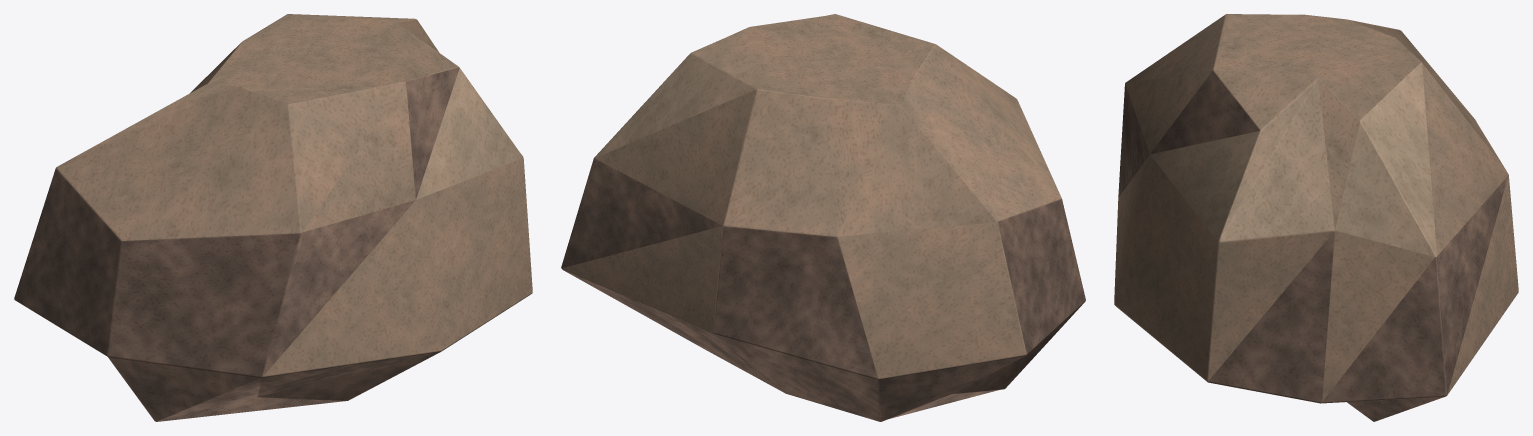
The model's file is PitLipRubble_04.glb.
3 renders of one model, left to right at view 1: azimuth 30°, elevation 25°; view 2: azimuth 150°, elevation 25°; view 3: azimuth 270°, elevation 25°, orthographic. The views are drawn at different scales.
Parts seen in each view (by area): view 1: Fractured_crust_warm_panel.003; view 2: Fractured_crust_warm_panel.003; view 3: Fractured_crust_warm_panel.003.
Part boxes in pixels (bbox=[...]): Fractured_crust_warm_panel.003: bbox=[14, 14, 532, 421]; Fractured_crust_warm_panel.003: bbox=[561, 14, 1085, 421]; Fractured_crust_warm_panel.003: bbox=[1114, 14, 1518, 421].
Bounding box in the file's own units: 0.8608 × 0.5717 × 0.6149.
Materials: 3 (3 with a texture image).
